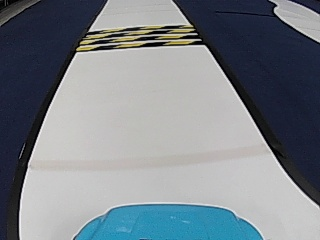bump: (94, 23, 186, 51)
